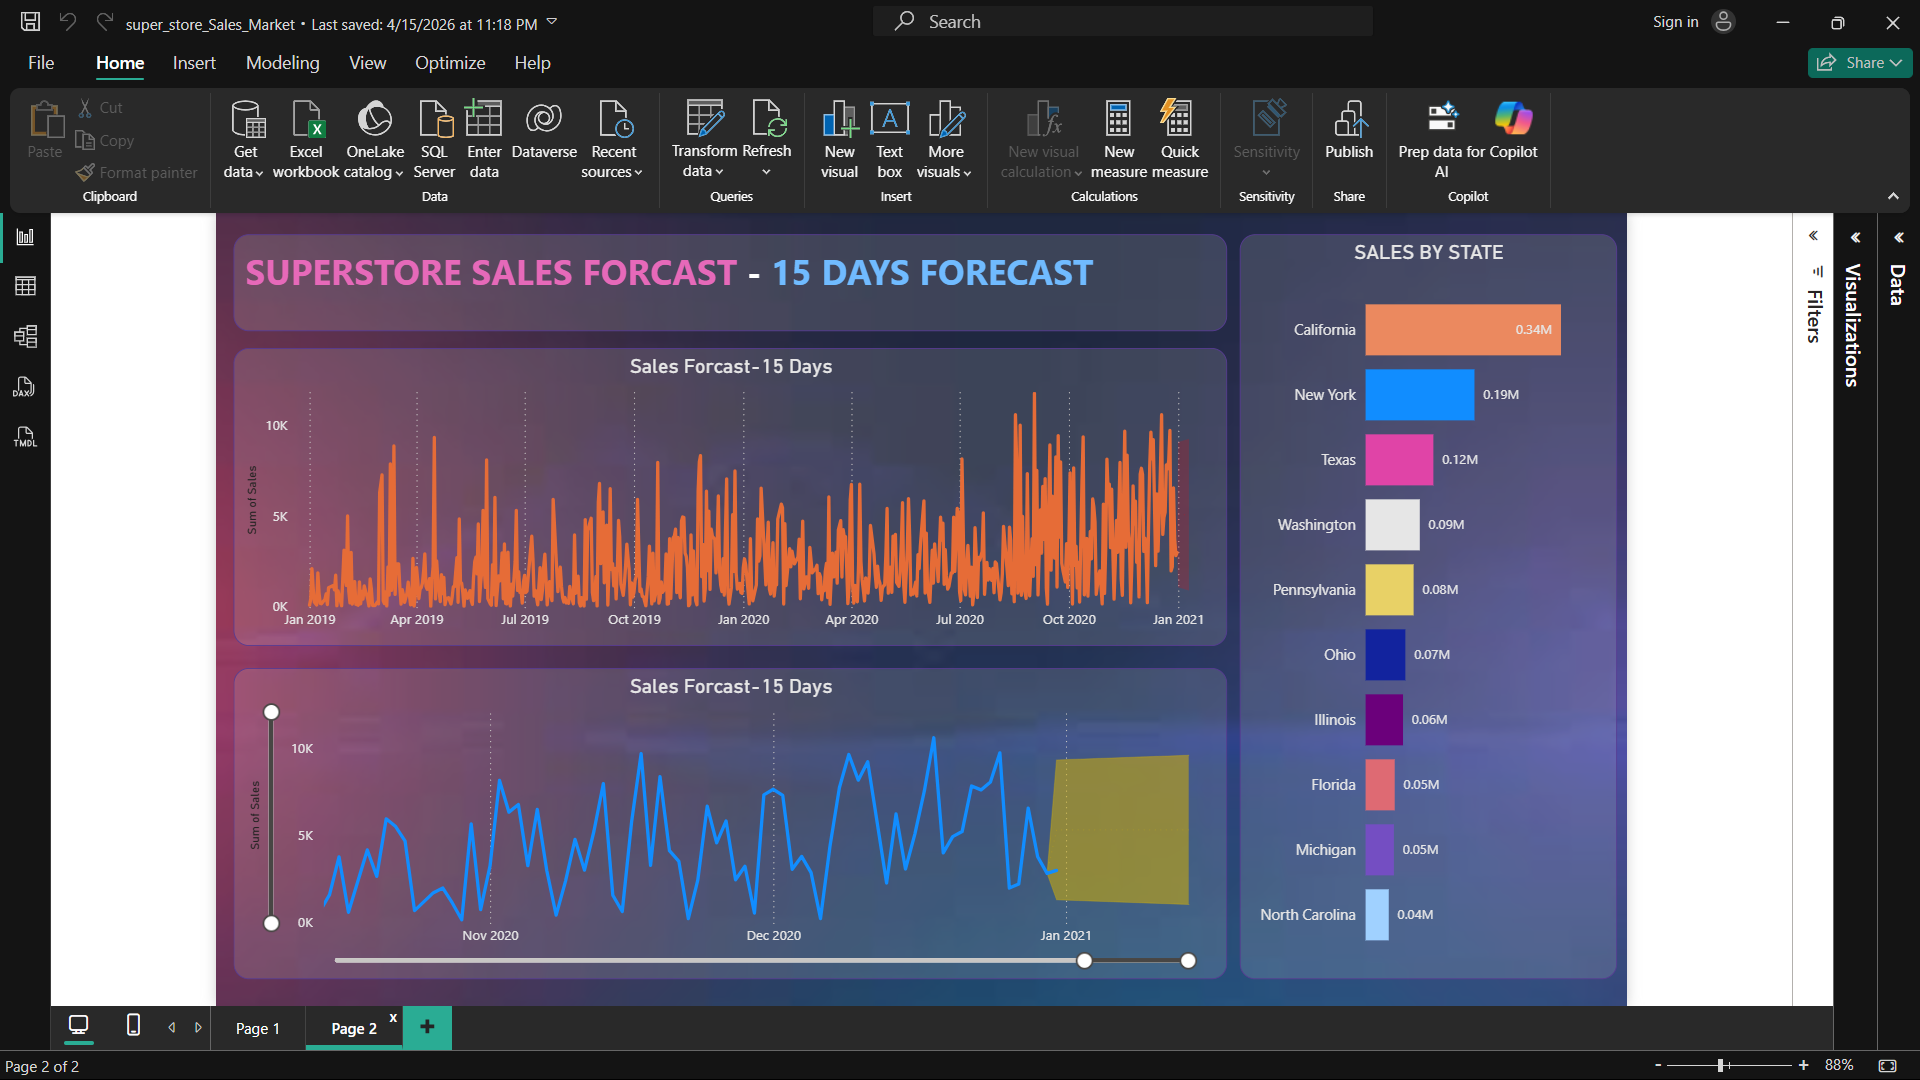

The page's visual inventory and layout, read from the dashboard file:
{"tool":"powerbi","page":{"name":"Page 2","canvas":[1280,720],"ordinal":1},"visuals":[{"type":"lineChart","title":"Sales Forcast-15 Days","fields":{"Category":["SuperStore_sales.Order Date"],"Y":["Sum(SuperStore_sales.Sales)"]},"box":[16.2,123,901.7,270.4],"z":0},{"type":"lineChart","title":"Sales Forcast-15 Days","fields":{"Category":["SuperStore_sales.Order Date"],"Y":["Sum(SuperStore_sales.Sales)"]},"box":[16.2,412.3,901.7,282.6],"z":1000},{"type":"textbox","box":[16.2,18.9,901.7,87.9],"z":2000},{"type":"clusteredBarChart","title":"SALES BY STATE","fields":{"Category":["SuperStore_sales.State"],"Y":["Sum(SuperStore_sales.Sales)"]},"box":[928.8,18.9,342,676],"z":3000}]}

Visuals, with their boxes on the page's 1280x720 design canvas (x1, y1, x2, y2). These are canvas units, not pixel positions in the 1920x1080 screenshot, which may show the page scaled, cropped or inside an application window:
"Sales Forcast-15 Days" lineChart: box=[16, 123, 918, 393]
"Sales Forcast-15 Days" lineChart: box=[16, 412, 918, 695]
textbox: box=[16, 19, 918, 107]
"SALES BY STATE" clusteredBarChart: box=[929, 19, 1271, 695]
